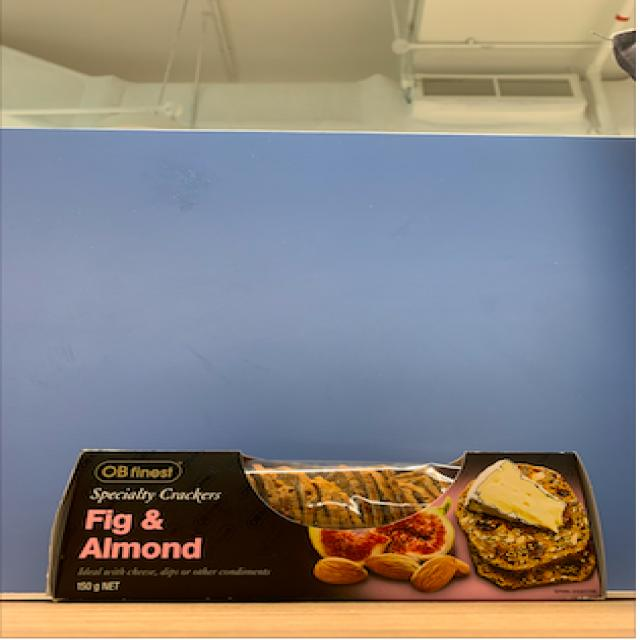object_name: (51, 454, 597, 597)
